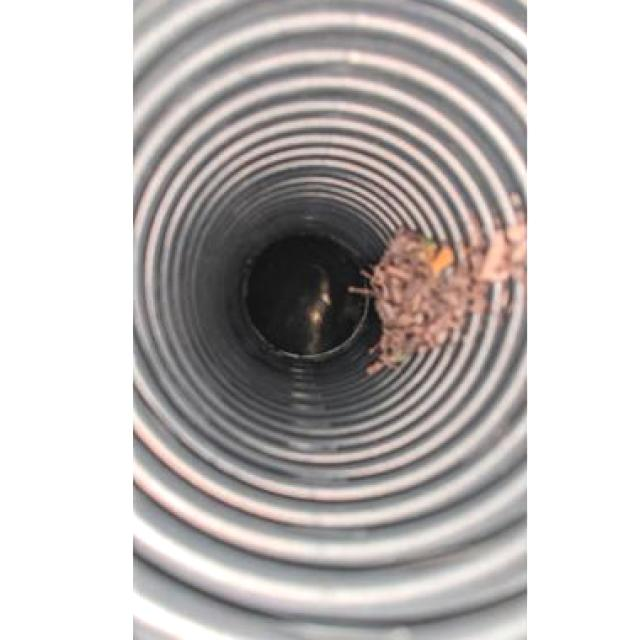dirt: (362, 223, 523, 358)
